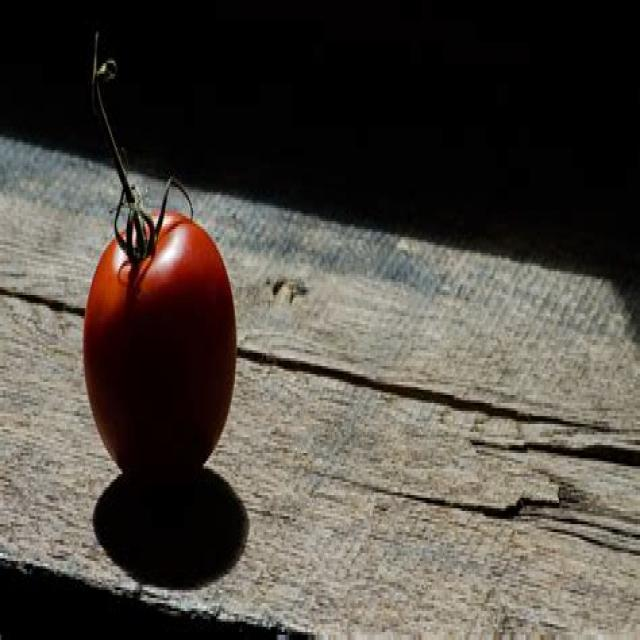Tomato: (83, 60, 237, 473)
